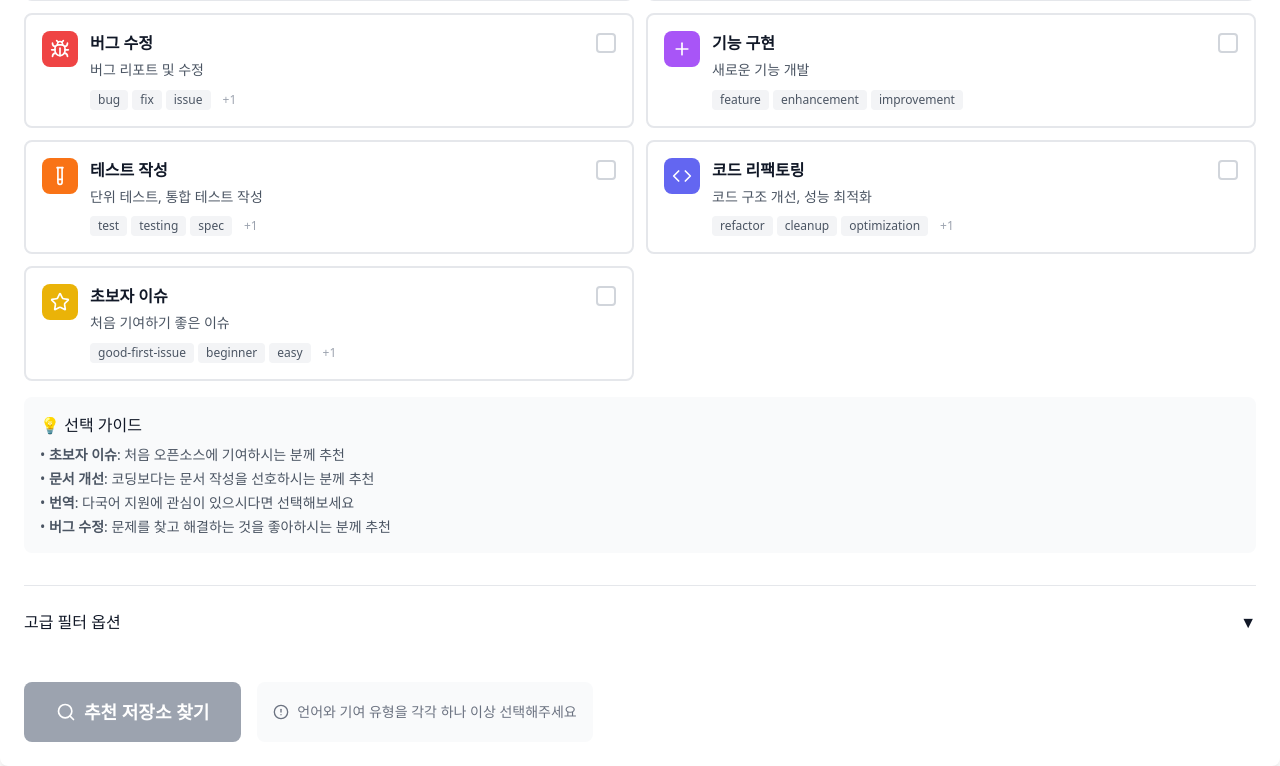
Test: SearchForm › shows advanced filter toggle
The image size is (1280, 766).
(page scrolled)
Click the text "고급 필터 옵션".
click(72, 622)  # box [24,610,121,634]
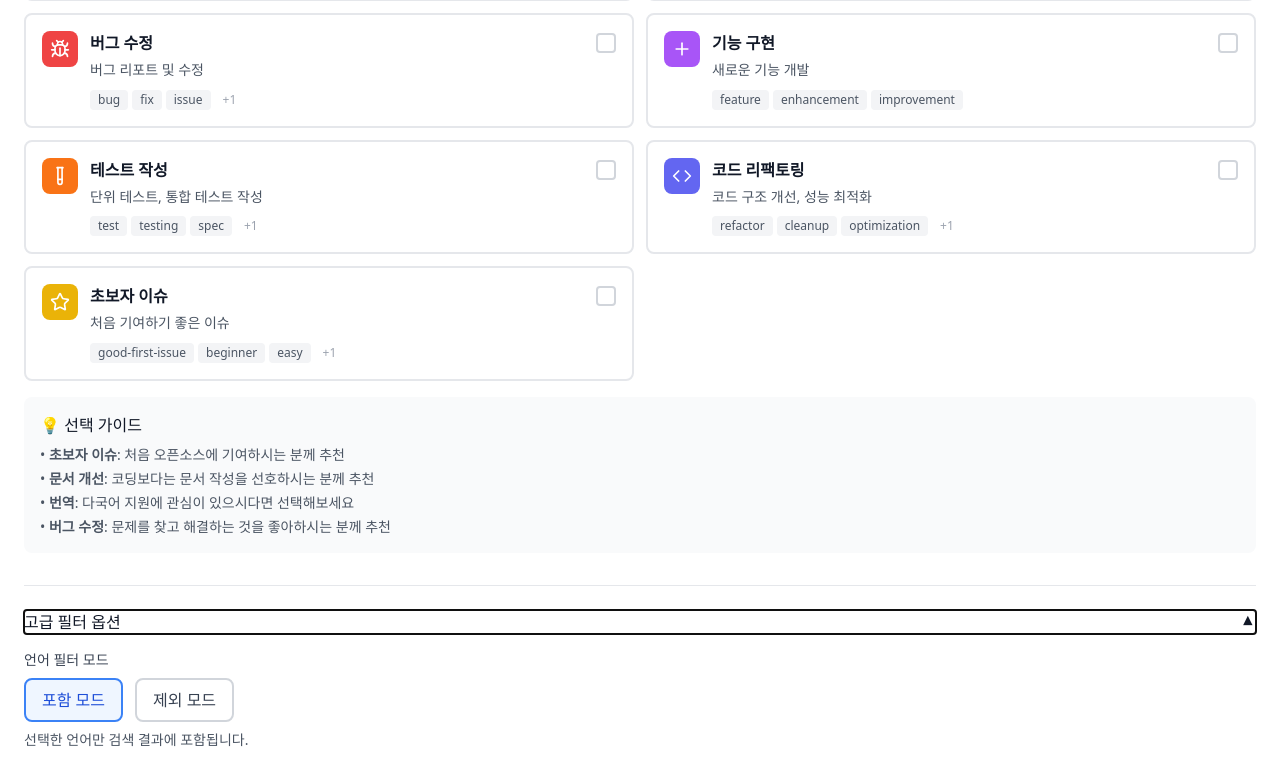
Expected: the text "언어 필터 모드" is shown, [24,650,109,669]
Expected: the button "포함 모드" is shown, [24,678,123,722]
Expected: the button "제외 모드" is shown, [135,678,234,722]
